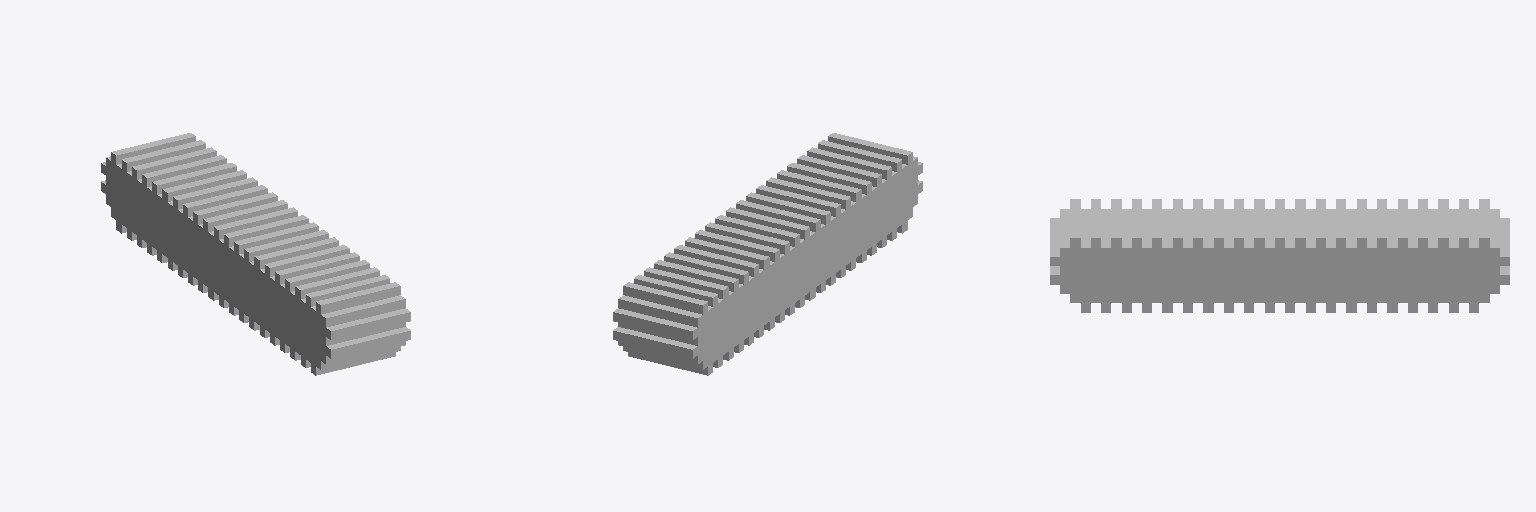
File: Tankwheels 4.obj
3 views of the same model, side by side, from view 1: azimuth 30°, elevation 25°; view 2: azimuth 150°, elevation 25°; view 3: azimuth 270°, elevation 25° (orthographic).
Size of the model in its own units: 9 by 8 by 45.